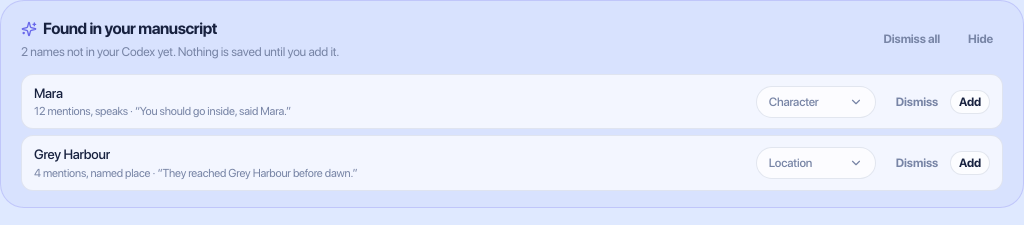
dismissing is as cheap as accepting and writes nothing
The image size is (1024, 225).
Click the button with aria-label "Dismiss Mara" at (917, 102), box [888, 90, 946, 114]
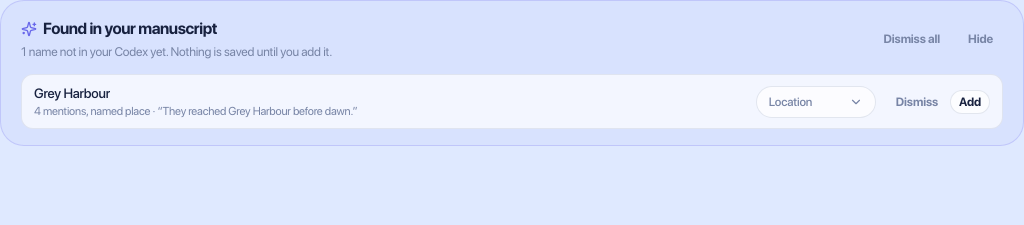
Now the text "Mara" is gone
